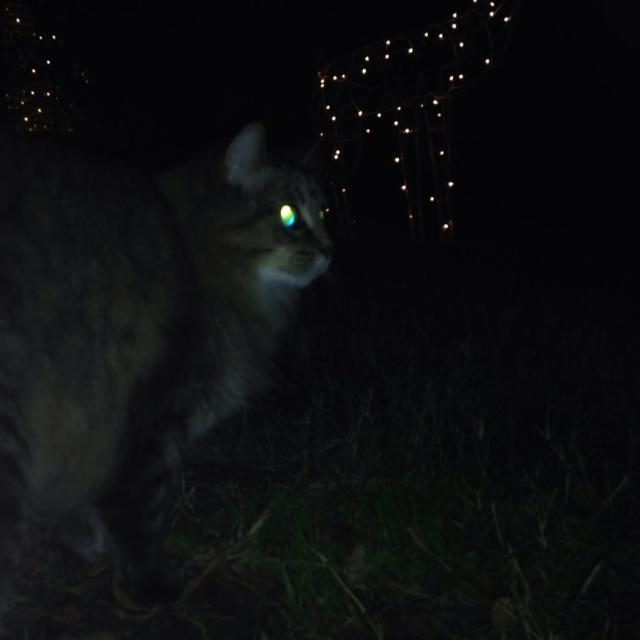Cat: (0, 105, 356, 617)
